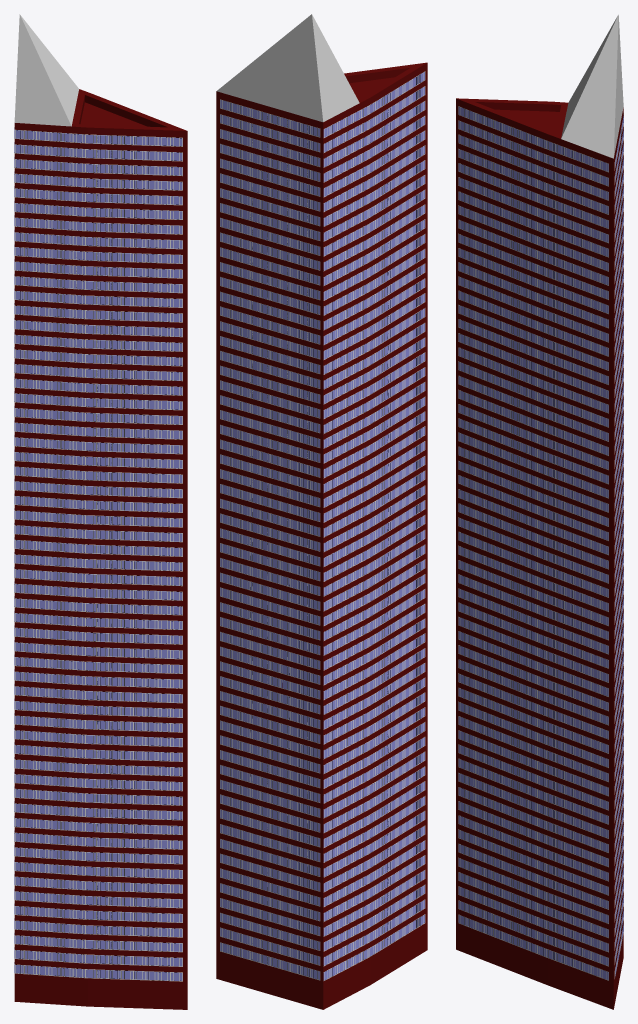
Rendered from TheTriangle.fbx.
3 views of the same model, side by side, from view 1: azimuth 90°, elevation 25°; view 2: azimuth 150°, elevation 25°; view 3: azimuth 270°, elevation 25° (orthographic). The views are drawn at different scales.
Parts seen in each view (by area): view 1: Window.002, TheTriangle; view 2: TheTriangle, Window.002, Window.001; view 3: Window, TheTriangle, Window.001.
Part boxes in pixels (<box>): Window.002: <box>14,129,182,981</box>; TheTriangle: <box>14,14,187,1009</box>; TheTriangle: <box>216,14,427,1009</box>; Window.002: <box>323,71,425,980</box>; Window.001: <box>220,99,320,980</box>; Window: <box>458,106,608,980</box>; TheTriangle: <box>456,14,623,1009</box>; Window.001: <box>614,115,623,978</box>.
Size of the model in its own units: 2981 by 21867 by 3502.
